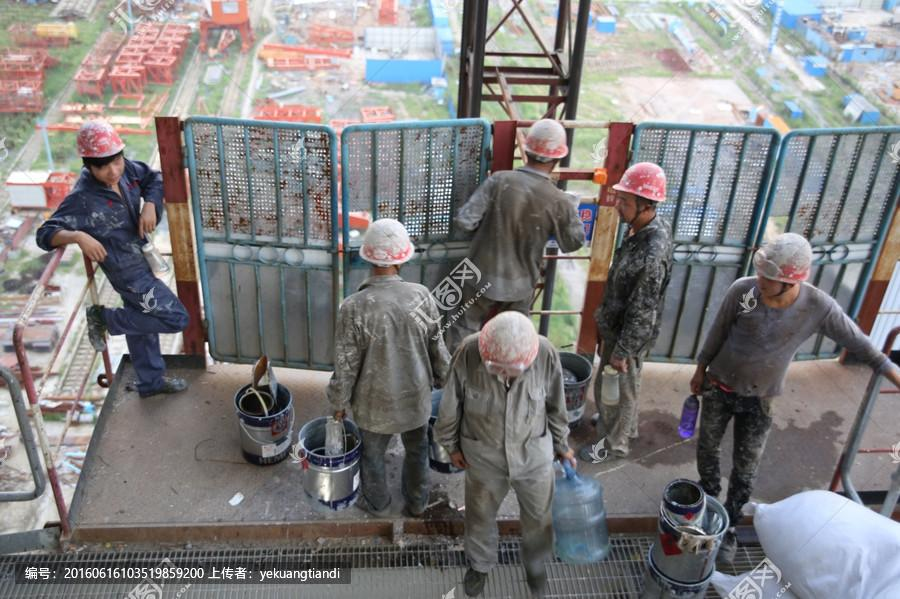helmet: (479, 311, 540, 377), (751, 234, 815, 287), (360, 218, 418, 268), (612, 162, 669, 205), (522, 120, 575, 161), (76, 117, 126, 159)
